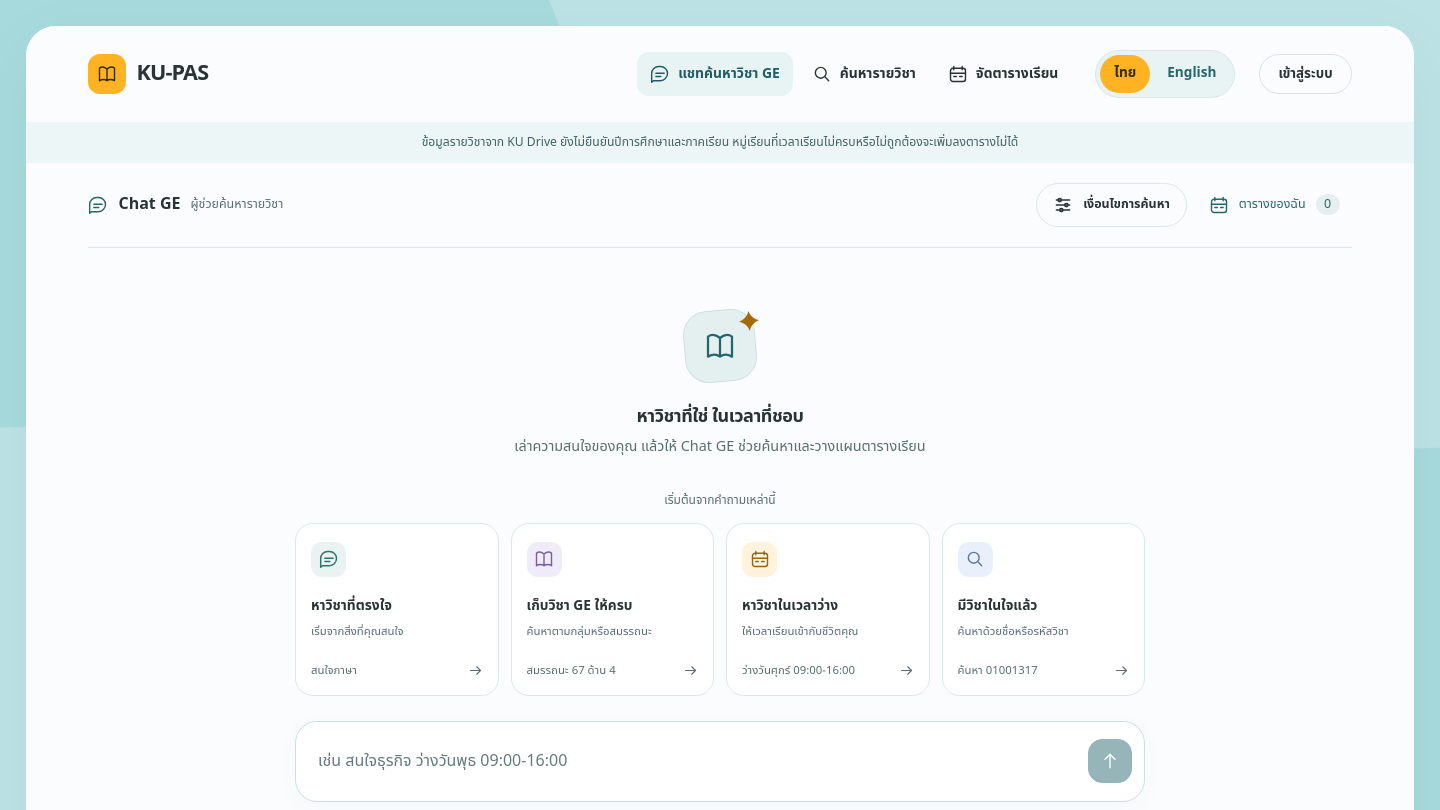
Test: guides the student through หาวิชาในเวลาว่าง before searching
The width and height of the screenshot is (1440, 810).
Step 1. Click the button "หาวิชาในเวลาว่าง" → click(828, 609), box left=726, top=523, right=930, bottom=696
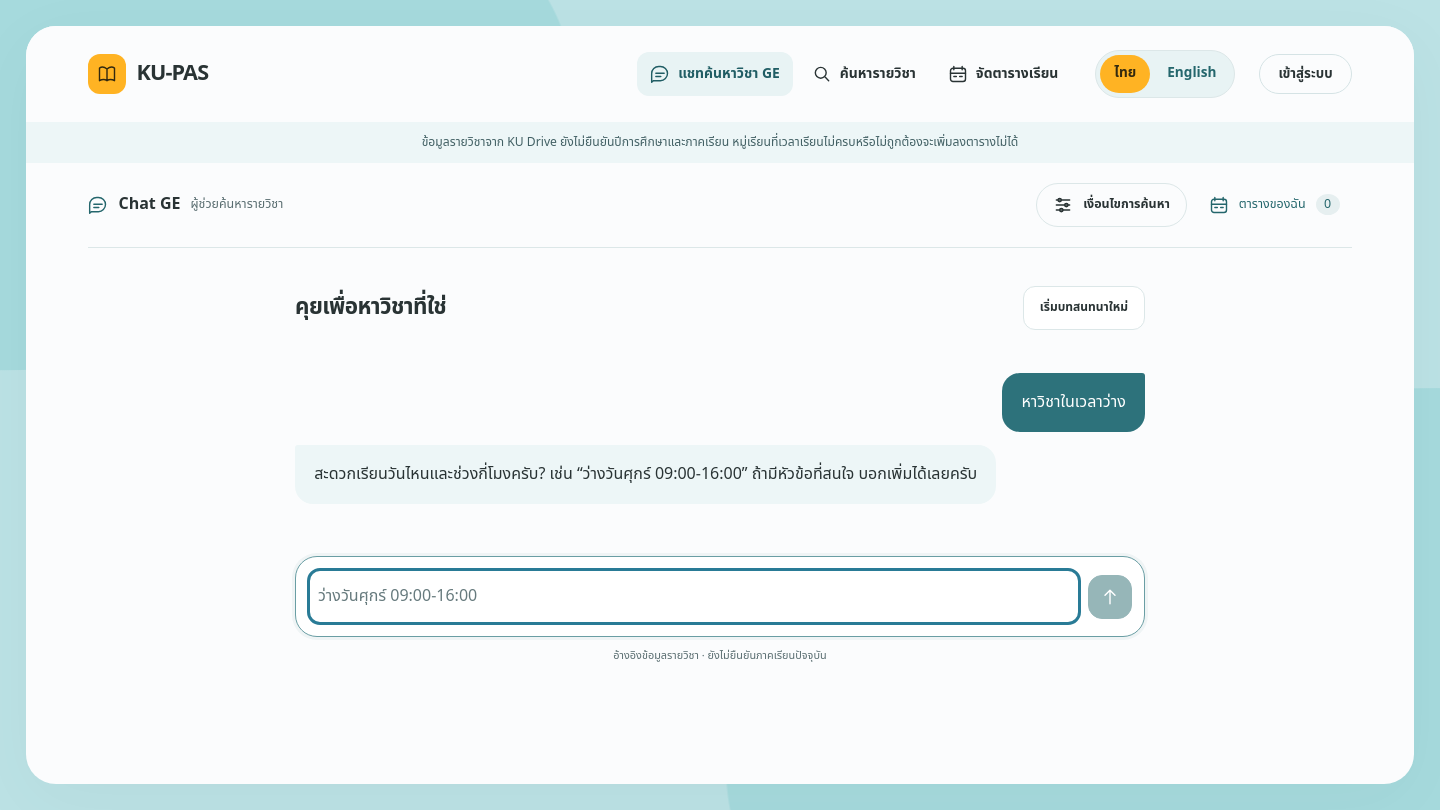
Now the text "สะดวกเรียนวันไหน" is shown, box left=314, top=462, right=977, bottom=486
Step 2. Type "ว่างวันพุธ 09:00-12:00" into the field named "ถามเรื่องรายวิชา GE" → (694, 597), box left=308, top=569, right=1080, bottom=624
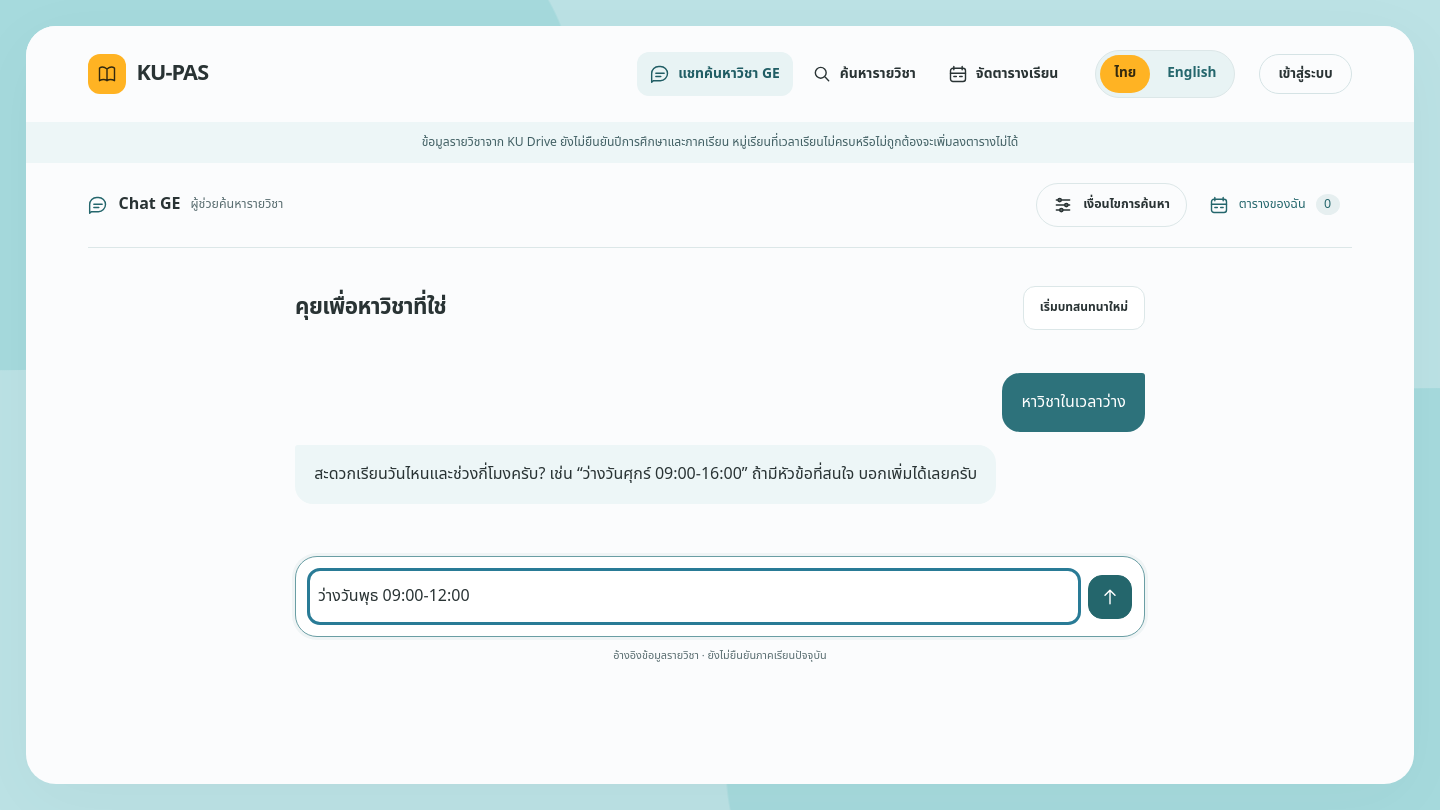
Now the button named "ส่งข้อความ" is enabled
Step 3. Click the button named "ส่งข้อความ" → click(1110, 597), box left=1088, top=575, right=1132, bottom=619
(page scrolled)
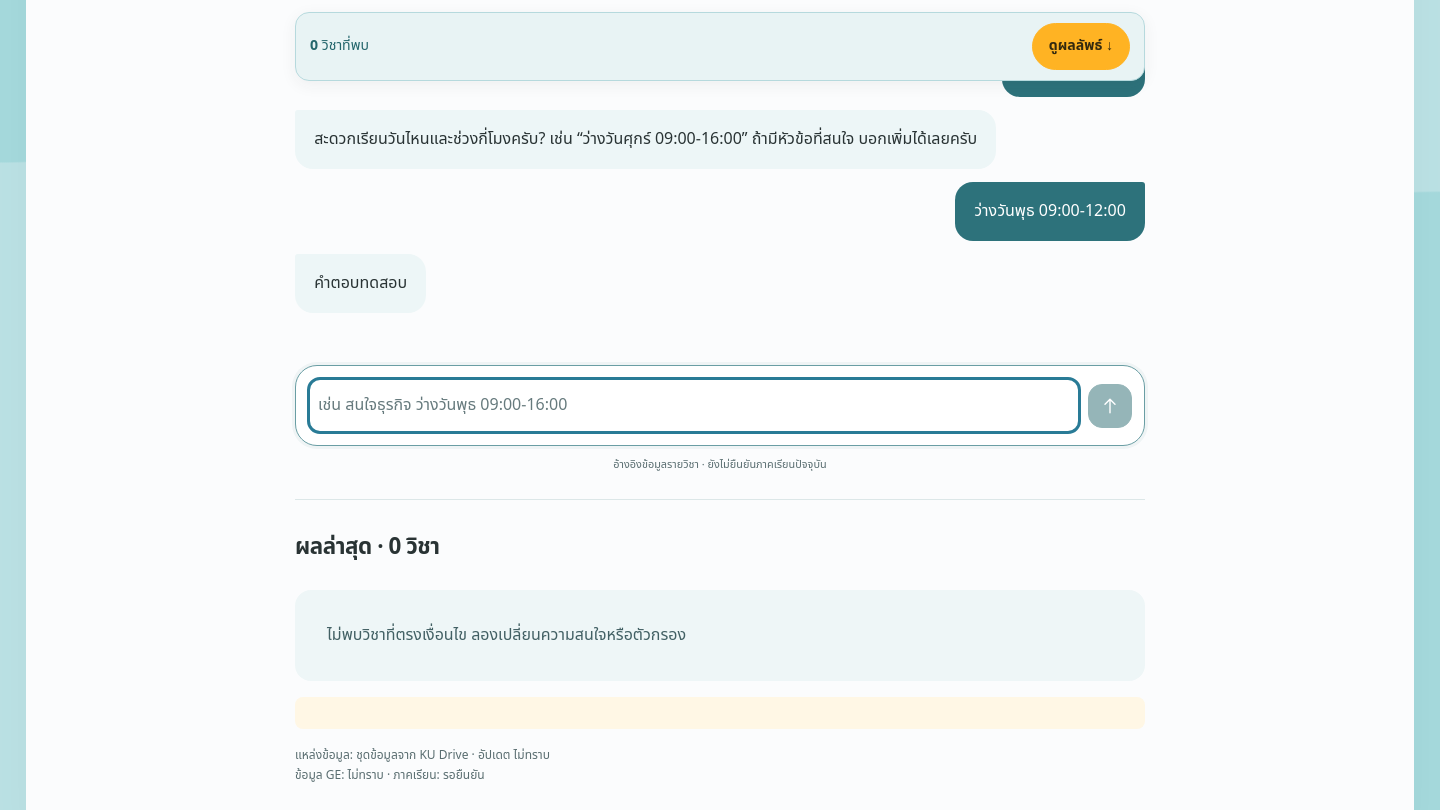
Now the text "คำตอบทดสอบ" is shown, box left=295, top=254, right=426, bottom=313
Now the text "ว่างวันพุธ 09:00-12:00" is shown, box left=955, top=182, right=1145, bottom=241
